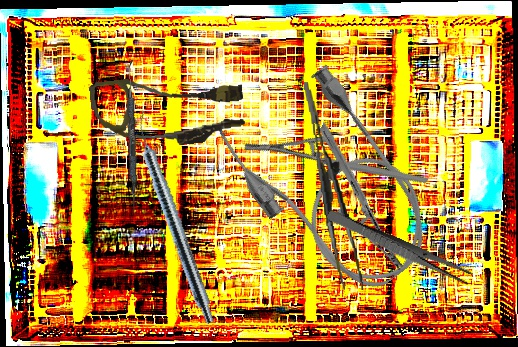Cannula: (207, 53, 454, 317), (88, 67, 248, 154)
Dressing Forceps: (324, 208, 474, 287)
Handpiece: (126, 109, 222, 327)
Needle Holder: (240, 90, 430, 238), (277, 122, 446, 273)
Spatula Surgical: (123, 60, 141, 213)
Tissue Forceps: (303, 78, 364, 294)
